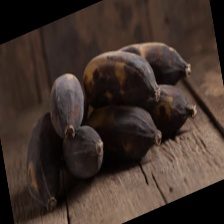banana: (26, 11, 221, 200)
